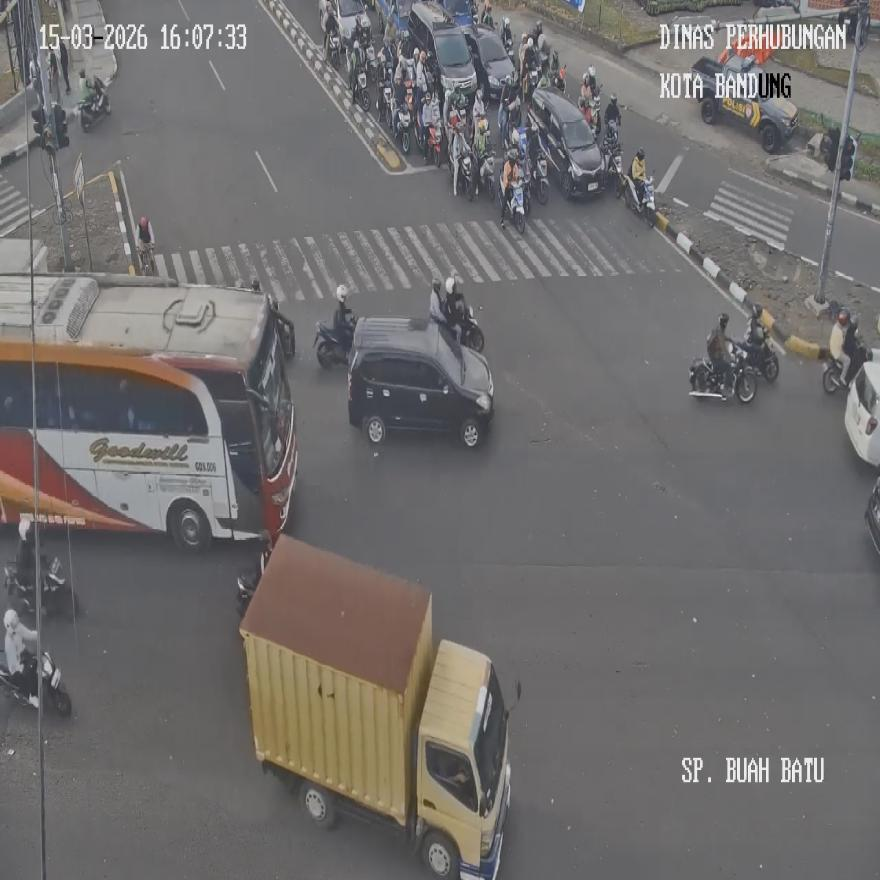Motor: (346, 314, 494, 446)
Truk: (0, 648, 72, 715), (5, 556, 79, 620), (688, 348, 755, 402), (3, 608, 38, 700), (822, 332, 872, 392), (734, 322, 779, 381), (314, 315, 355, 368), (623, 174, 655, 228), (79, 78, 110, 130), (450, 130, 473, 199), (527, 134, 549, 206), (500, 174, 526, 234), (459, 303, 484, 353), (605, 140, 626, 196), (392, 101, 412, 154), (422, 118, 443, 168), (474, 150, 495, 200), (547, 51, 565, 96), (351, 70, 370, 111), (327, 25, 344, 68), (379, 81, 393, 127), (500, 15, 513, 55)
